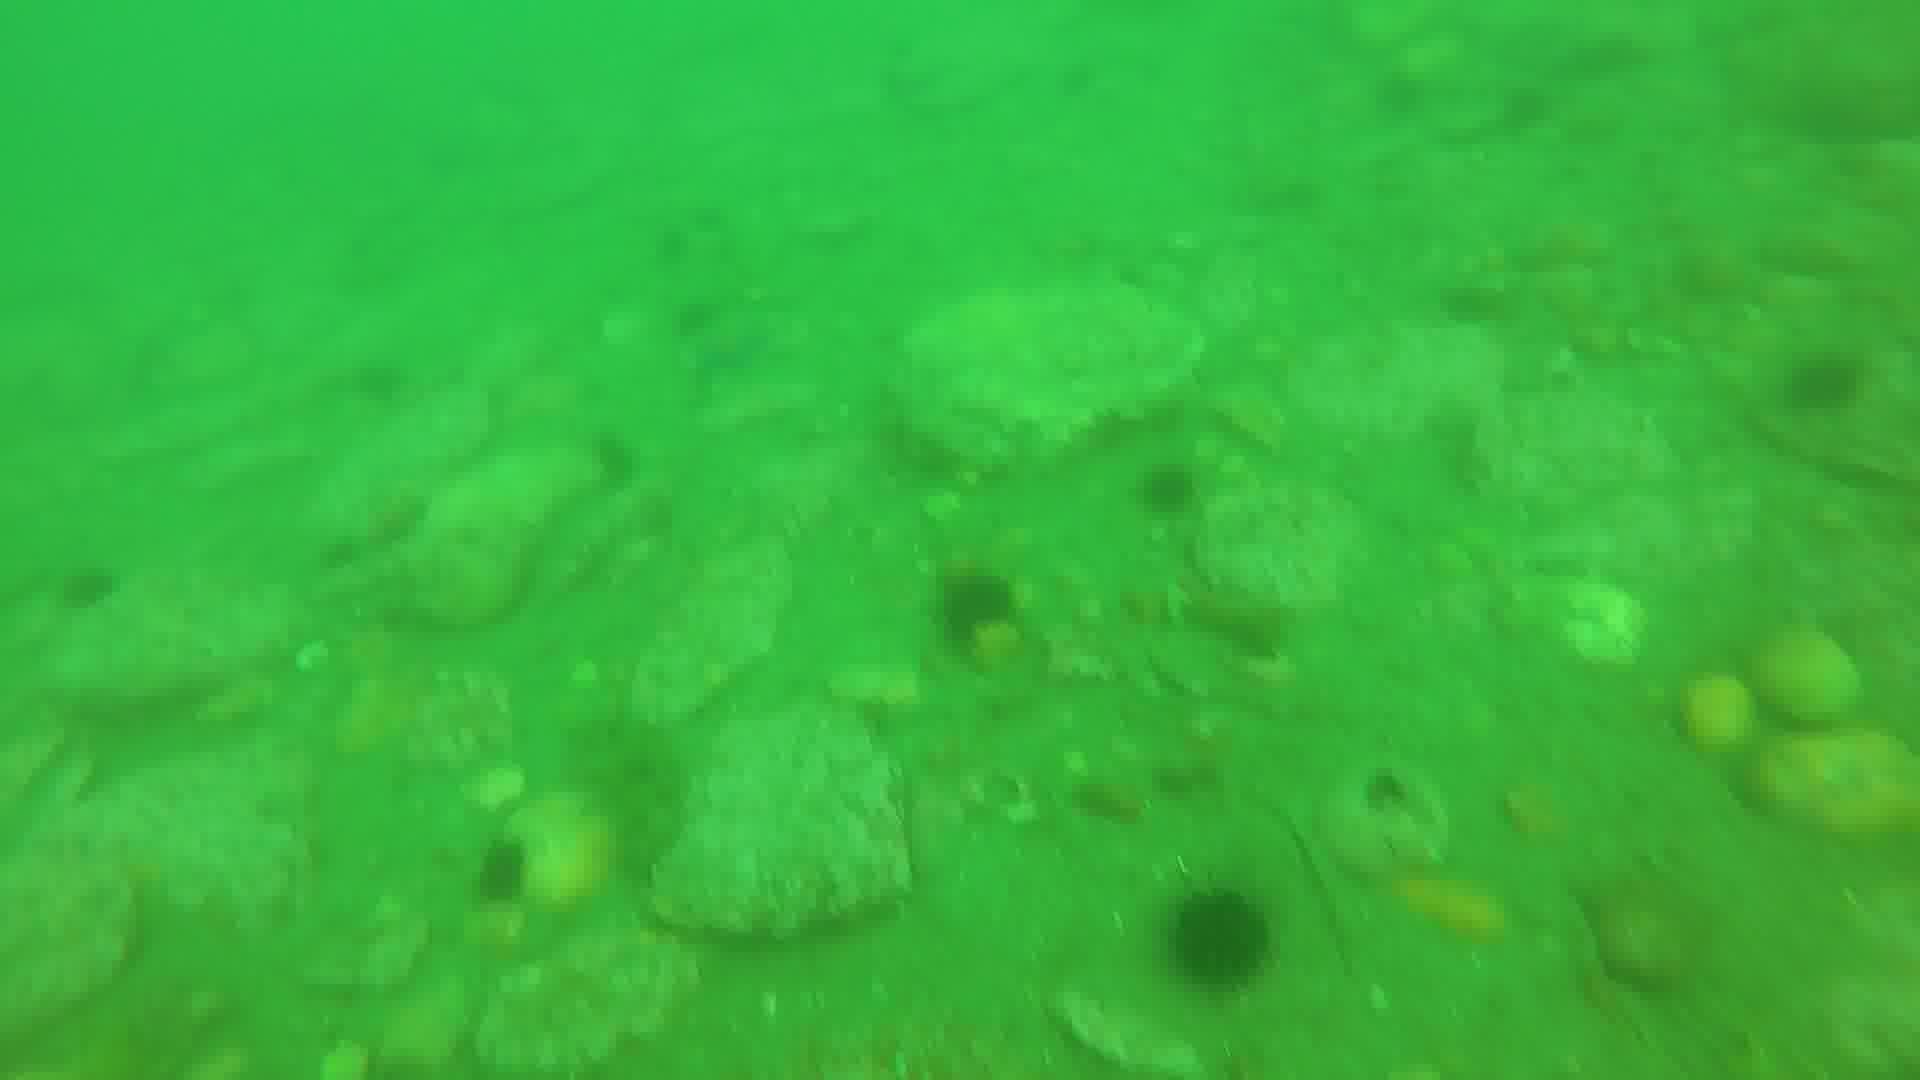echinus: (1166, 891, 1280, 986), (1782, 355, 1869, 413), (465, 836, 533, 897), (949, 564, 1007, 632), (1135, 462, 1207, 516), (57, 558, 113, 621)
starfish: (684, 309, 781, 377)
